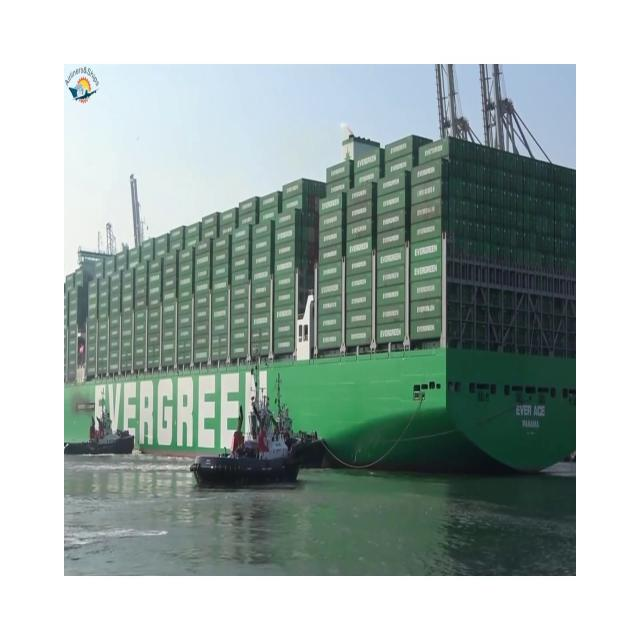OCR: (86, 372, 275, 453), (507, 396, 554, 441)
